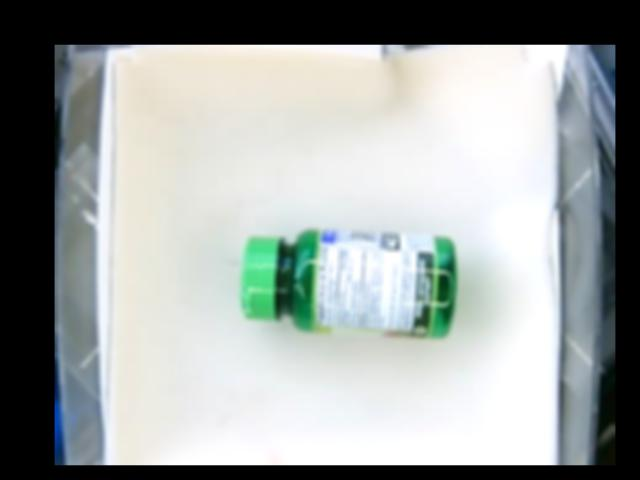Bottle: (241, 227, 454, 338)
